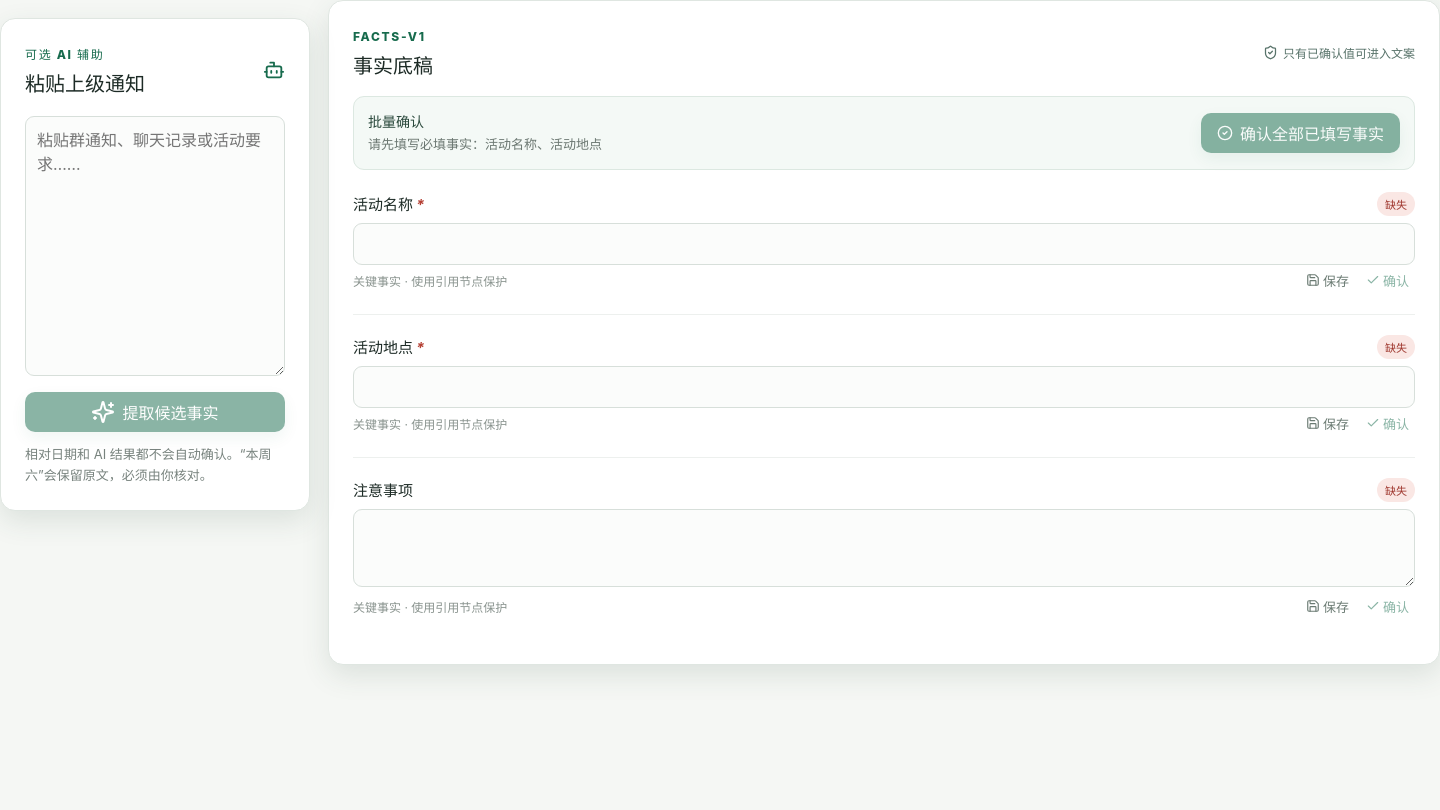
it: facts confirmation › requires all mandatory facts and confirms only non-empty pending values
The image size is (1440, 810).
Type "示例活动" into the field labelled "活动名称*" at (884, 244), box [353, 222, 1415, 264]
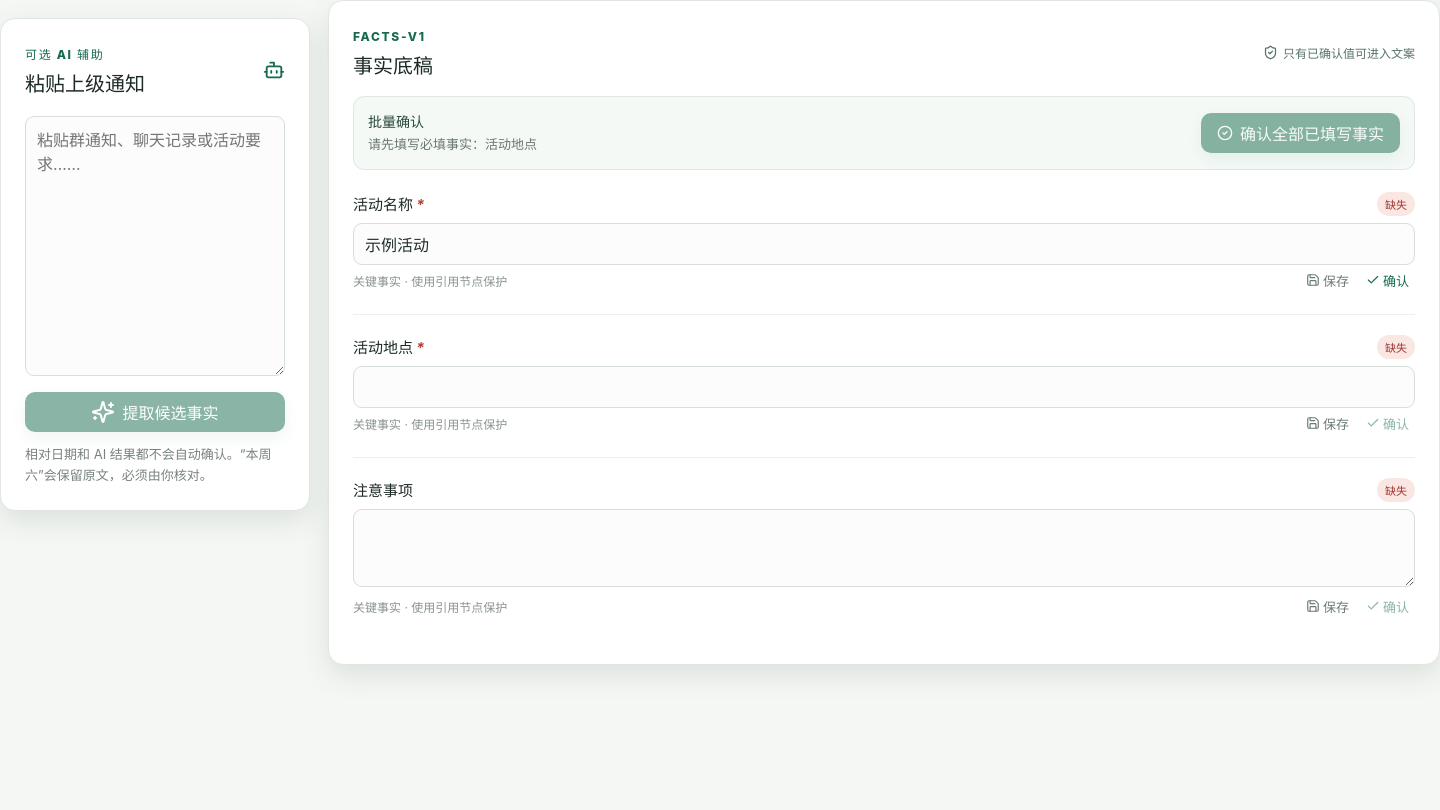
Expected: the button "确认全部已填写事实" is disabled, [1201, 113, 1400, 153]
Now the text "请先填写必填事实：活动地点" is shown, box [368, 135, 537, 154]
Type "示例地点" into the field labelled "活动地点*" at (884, 386), box [353, 366, 1415, 408]
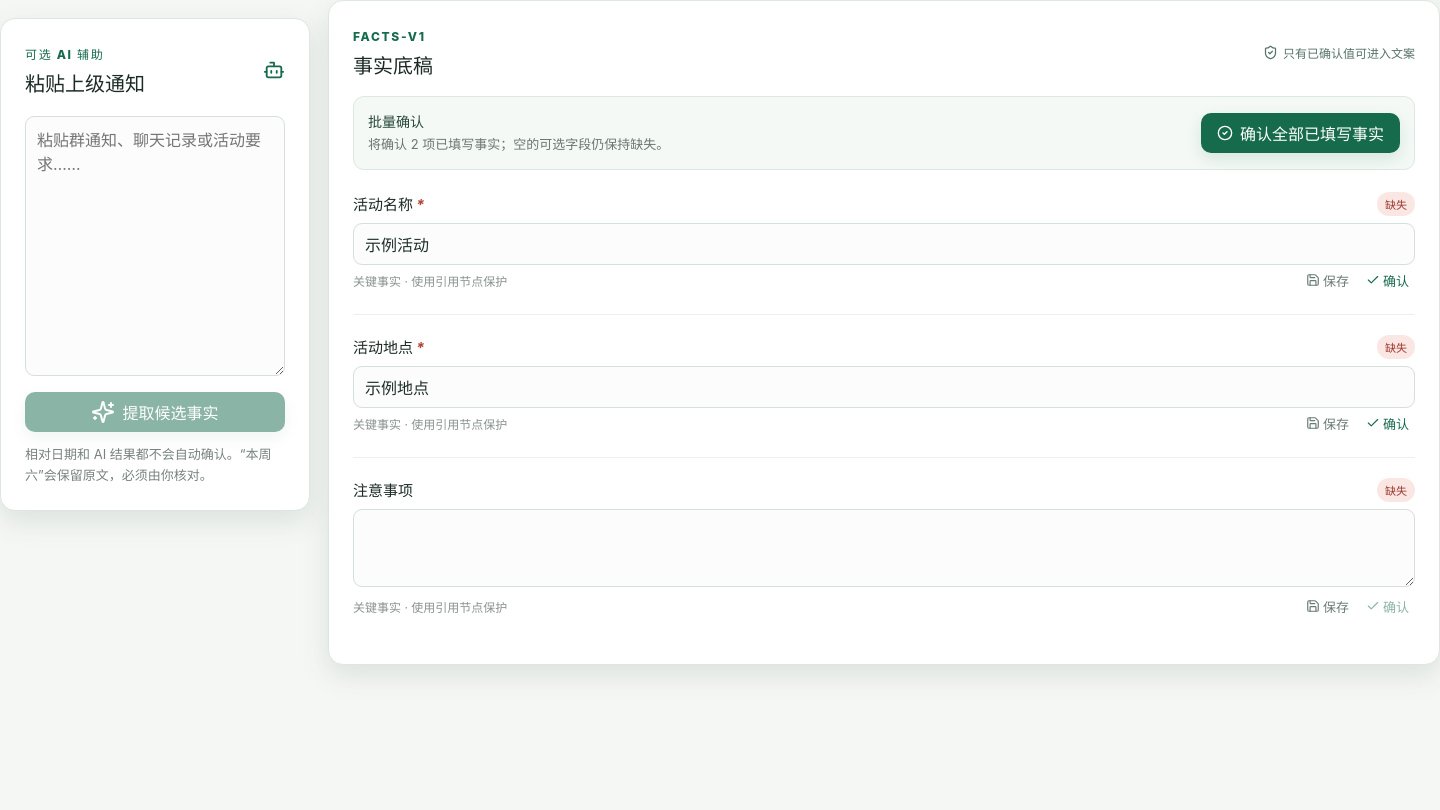
Type "请提前到场" into the text box labelled "注意事项" at (884, 548), box [353, 508, 1415, 586]
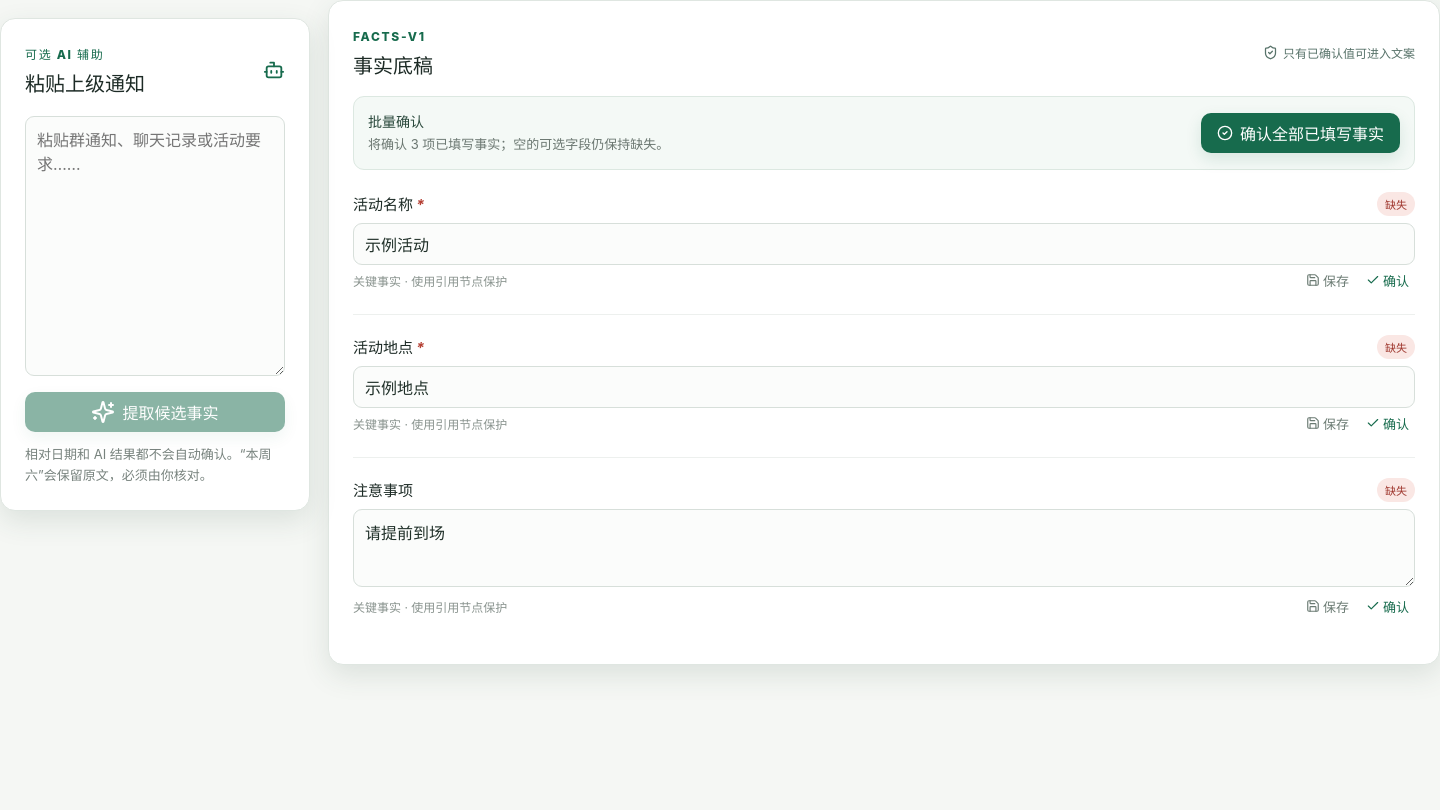
Now the button "确认全部已填写事实" is enabled
Click the button "确认全部已填写事实" at (1300, 133), box [1201, 113, 1400, 153]
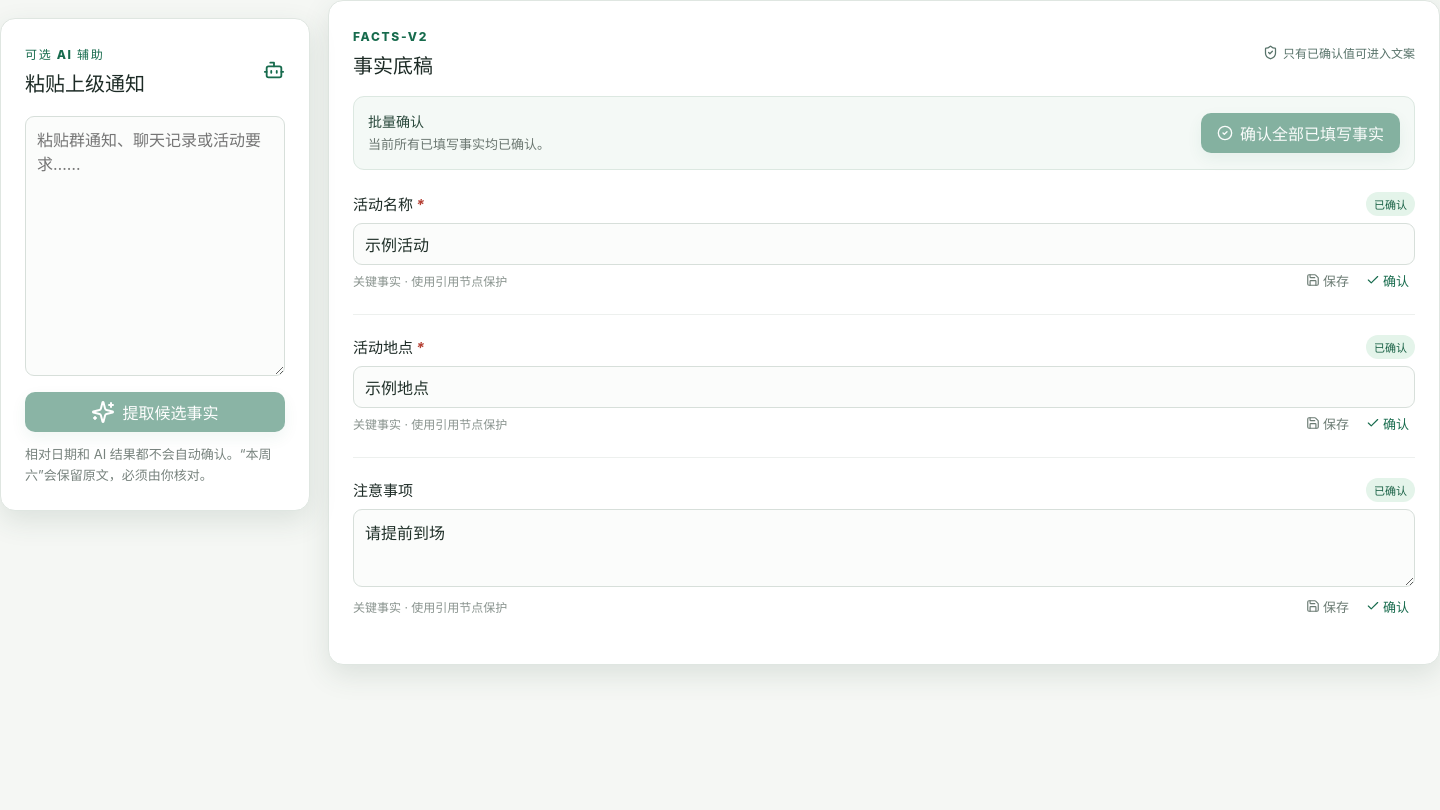
Now the text "当前所有已填写事实均已确认。" is shown, box [368, 135, 550, 154]
